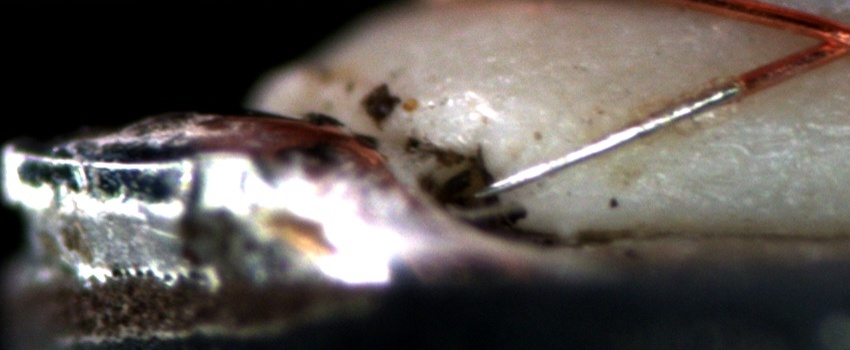CL: (793, 10, 849, 64)
DL: (681, 103, 850, 167)
TS: (461, 79, 742, 203)
